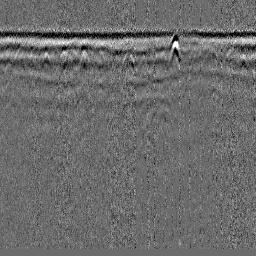cavity: (120, 53, 136, 73)
